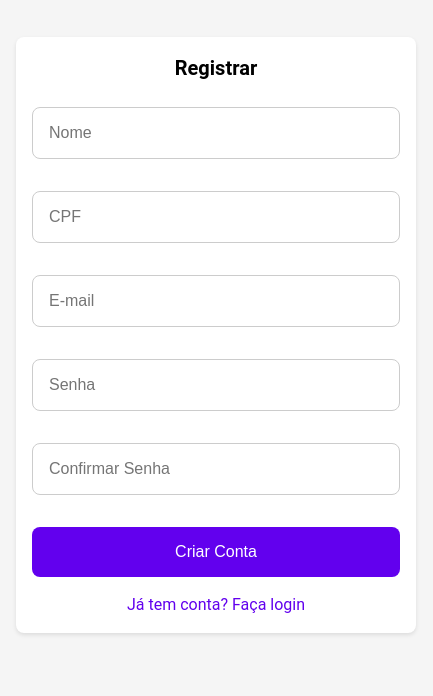
Test case: Register Component › validates password mismatch
Step 1. Type "123456" into the password field with placeholder "Senha" → [216, 385], box [32,359,400,411]
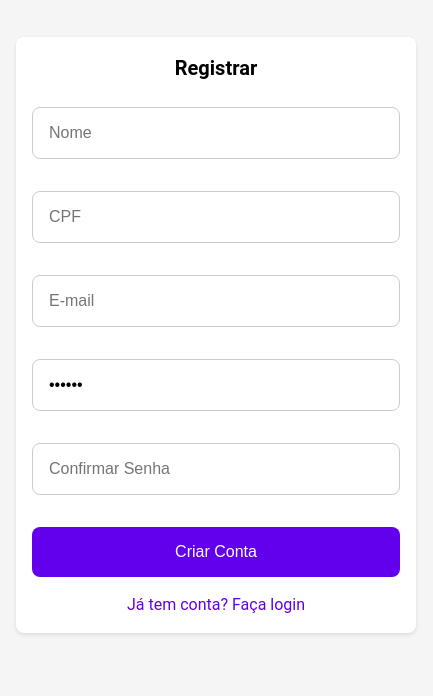
Step 2. Type "654321" into the password field with placeholder "Confirmar Senha" → [216, 469], box [32,443,400,495]
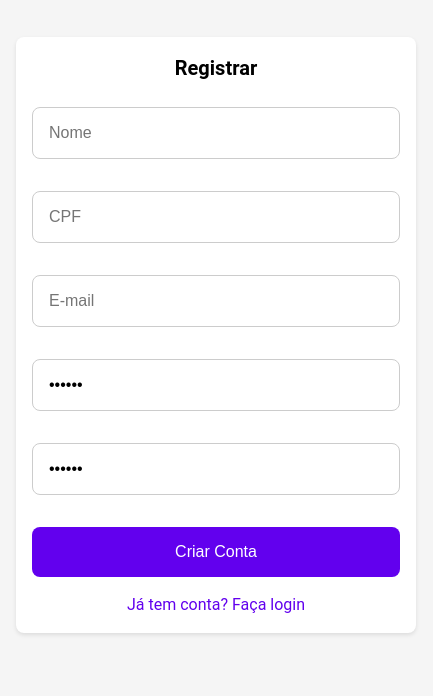
Step 3. Click the button "Criar Conta" → [216, 552], box [32,527,400,577]
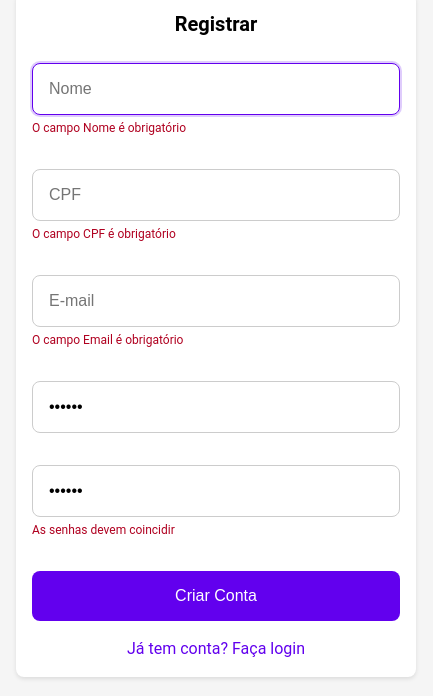
Now the text "As senhas devem coincidir" is shown, box [32,523,175,537]
